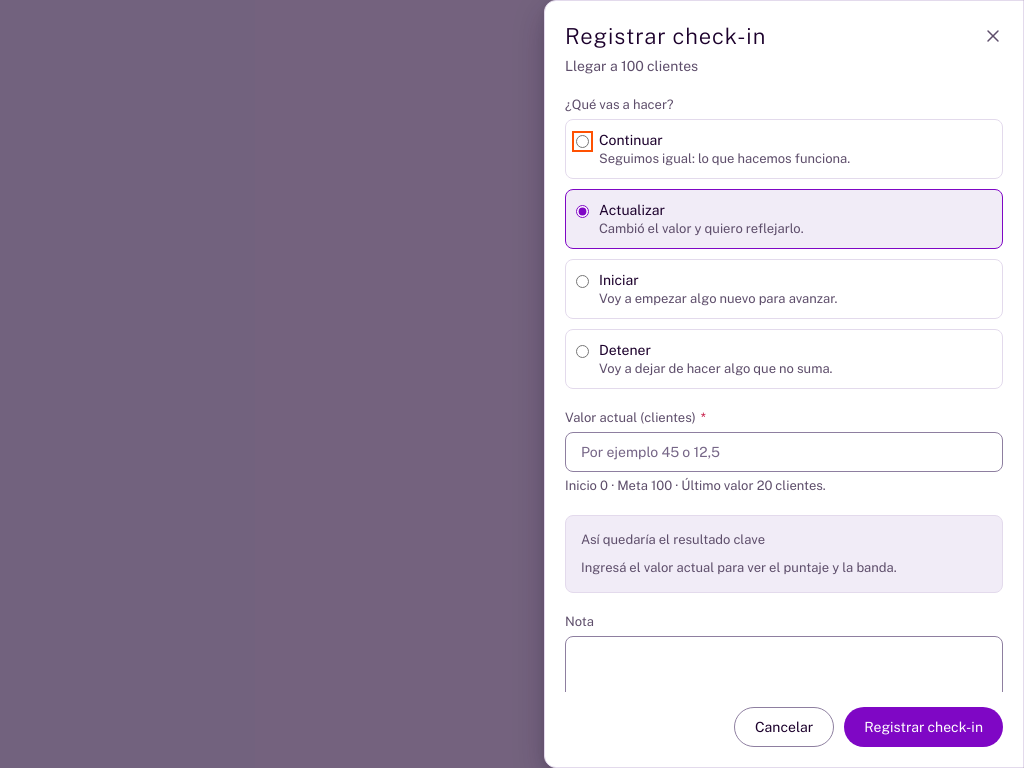
Test case: CheckInDrawer › muestra el error del back en español y no pierde lo tipeado
The image size is (1024, 768).
In the field labelled "Valor actual (clientes)*": [784, 452] box [565,432,1003,472], type "10"
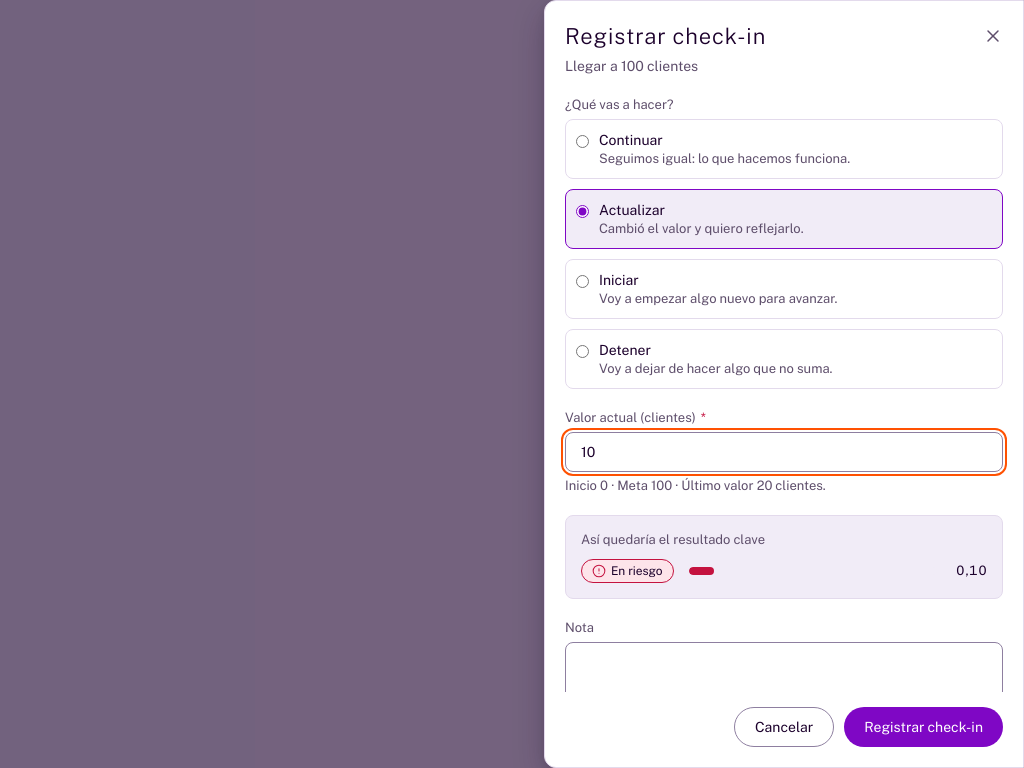
Click the button "Registrar check-in": [924, 727] box [844,707,1003,747]
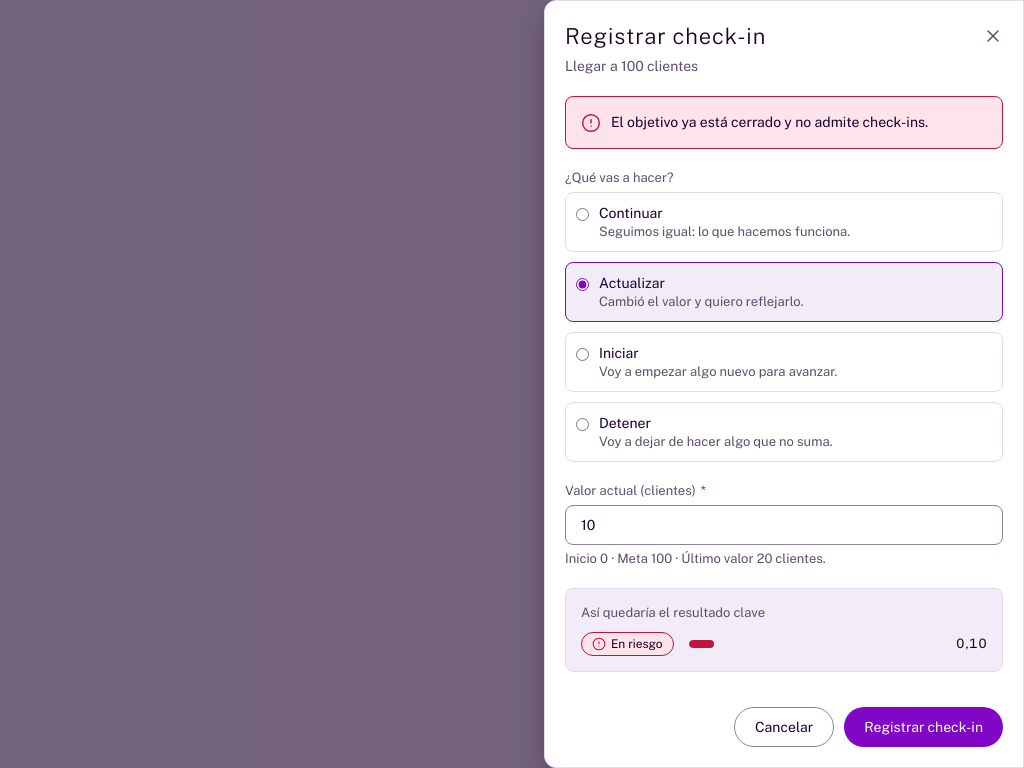
expect the message shows "ya está cerrado": met, box [611,114,928,130]
